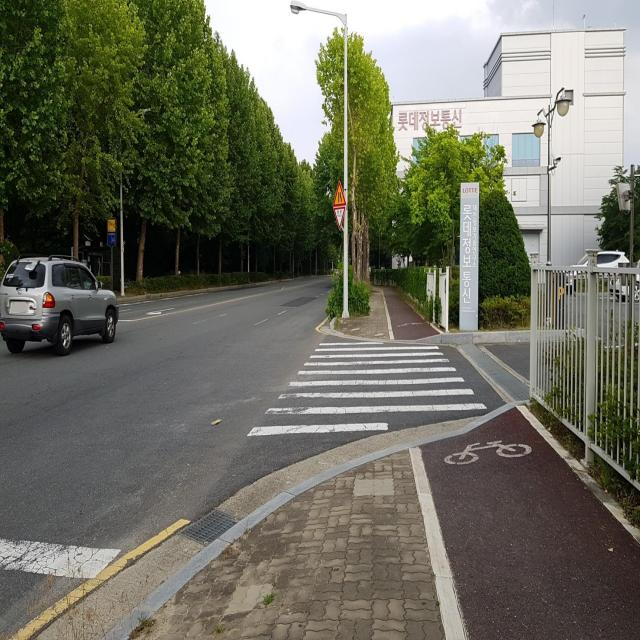횡단보도: (245, 339, 488, 438)
